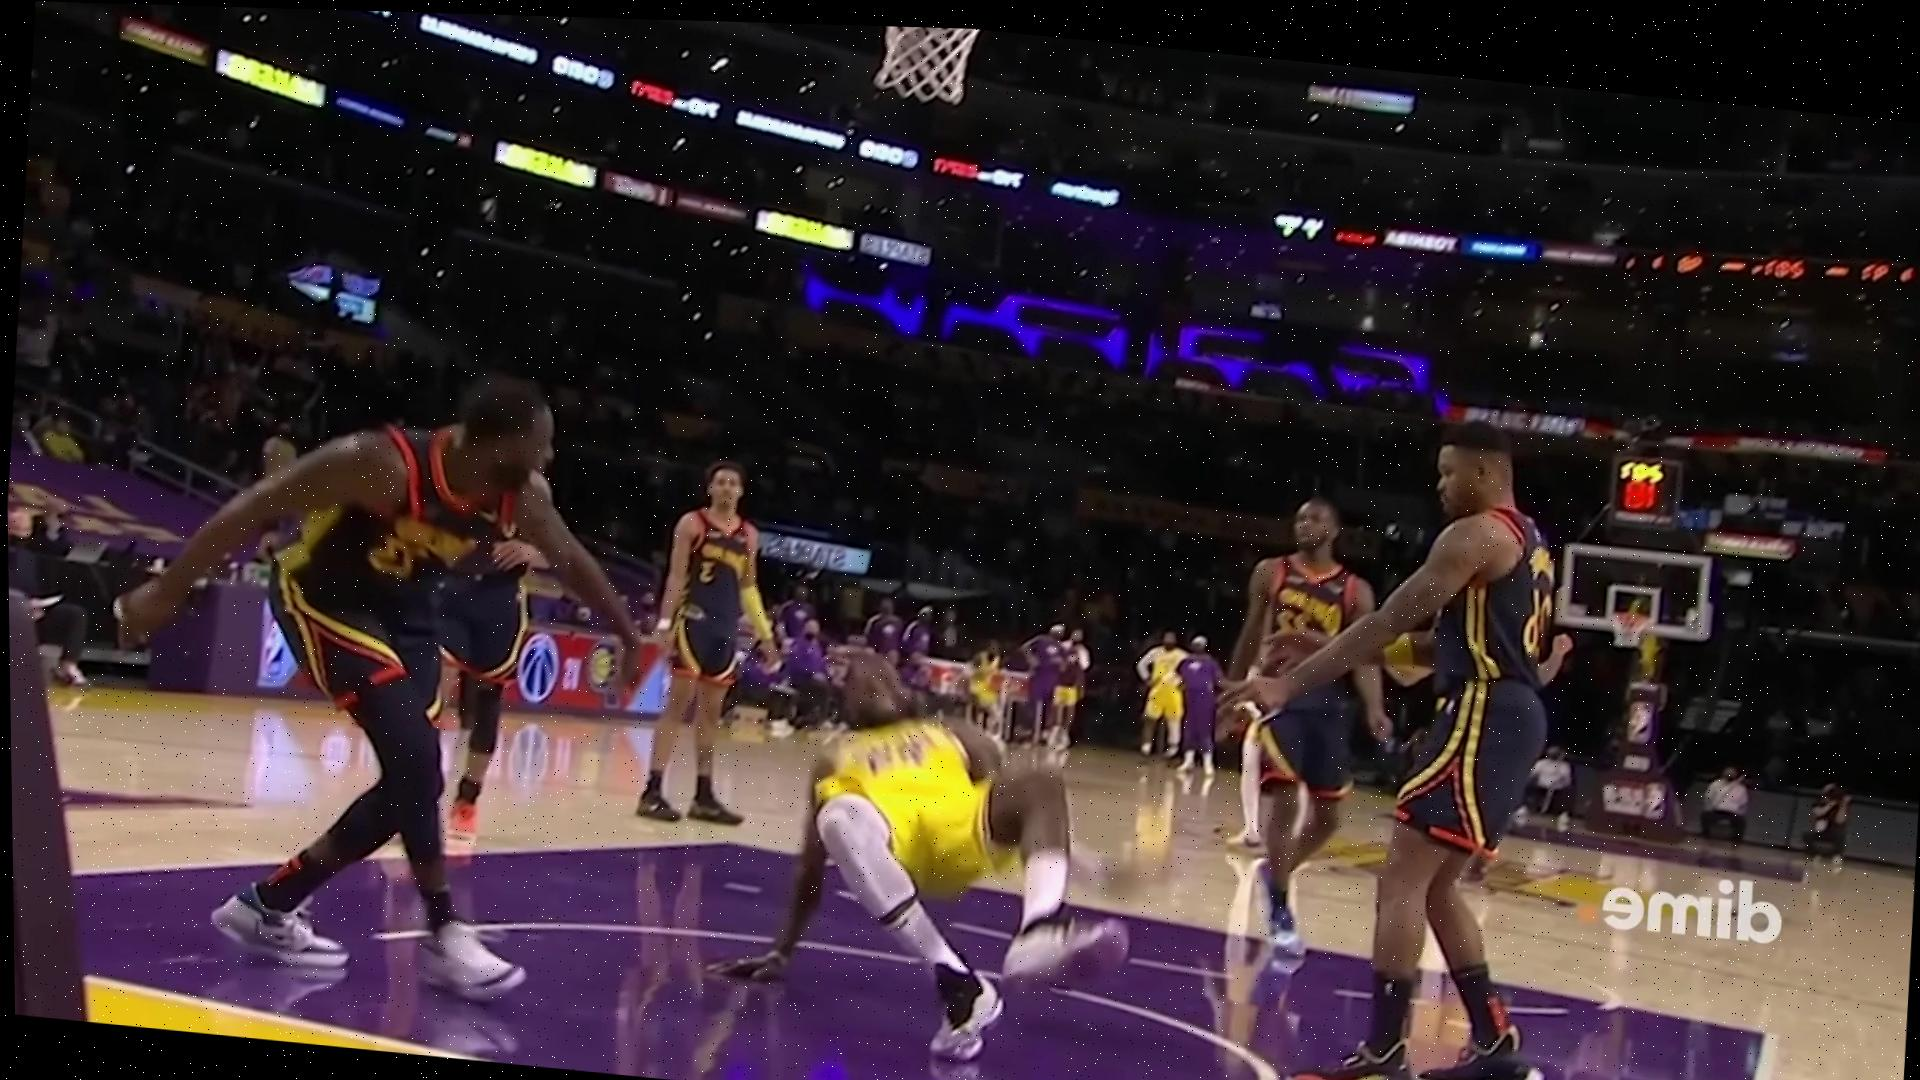no_foul: (721, 588, 1116, 1075)
